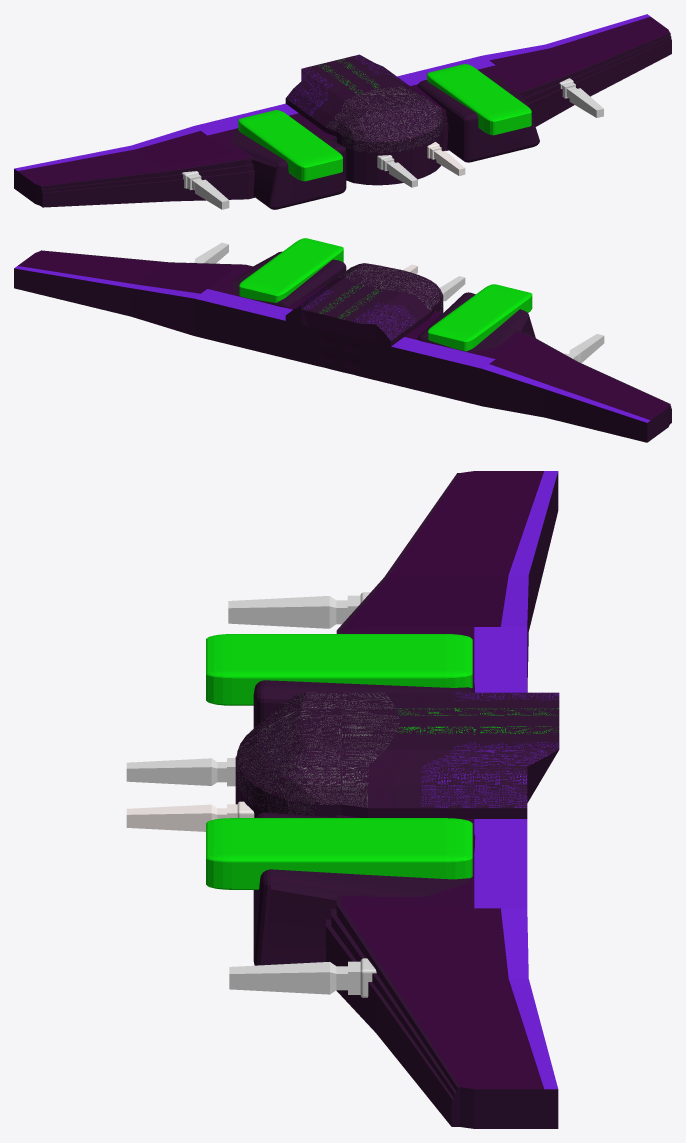
File: BossShip 1.fbx
3 renders of one model, top to bottom at view 1: azimuth 30°, elevation 25°; view 2: azimuth 150°, elevation 25°; view 3: azimuth 270°, elevation 25°, orthographic. The views are drawn at different scales.
Parts seen in each view (by area): view 1: Cube, Cube.005, Cube.003, Cube.002, Cube.004, Cube.001; view 2: Cube, Cube.005, Cube.003, Cube.002, Cube.004; view 3: Cube, Cube.005, Cube.002, Cube.003, Cube.004, Cube.001.
Part boxes in pixels (x1,y1,x2,y2): Cube: [14, 14, 671, 209]; Cube.005: [238, 64, 531, 181]; Cube.003: [182, 171, 229, 209]; Cube.002: [559, 78, 603, 117]; Cube.004: [377, 155, 417, 187]; Cube.001: [427, 142, 465, 175]; Cube: [14, 250, 671, 442]; Cube.005: [239, 238, 532, 351]; Cube.003: [564, 334, 604, 363]; Cube.002: [189, 242, 228, 263]; Cube.004: [439, 276, 465, 301]; Cube: [235, 471, 559, 1128]; Cube.005: [206, 634, 472, 889]; Cube.002: [229, 958, 376, 997]; Cube.003: [228, 592, 370, 628]; Cube.004: [126, 758, 235, 786]; Cube.001: [126, 801, 254, 831].
Bounding box in the file's own units: 13999 × 1317 × 4144.
